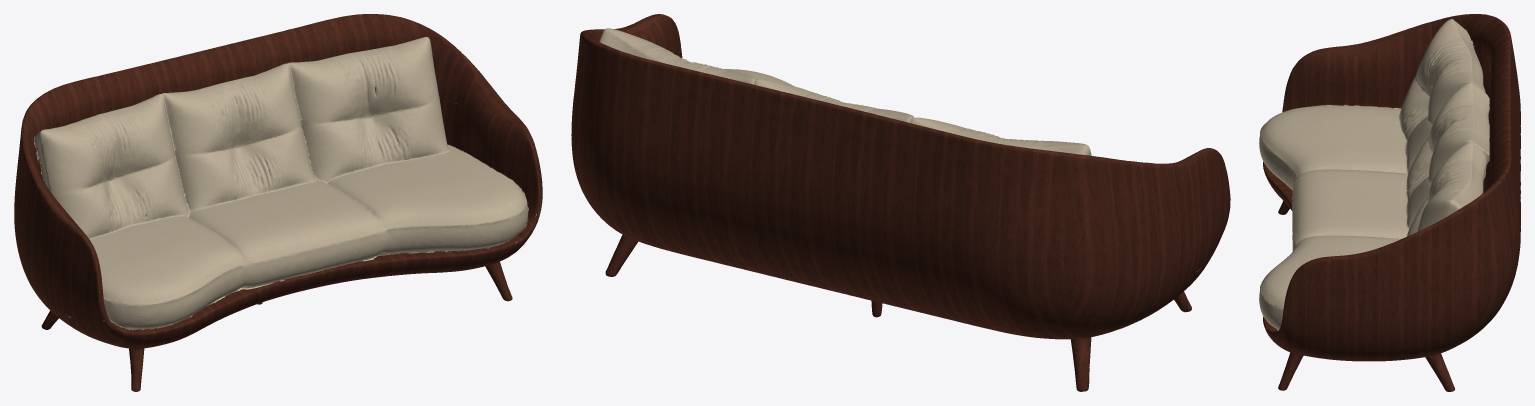
The model's file is sofa.glb.
The picture shows the model from 3 angles, left to right: view 1: azimuth 30°, elevation 25°; view 2: azimuth 150°, elevation 25°; view 3: azimuth 270°, elevation 25°; orthographic projection. The views are drawn at different scales.
Parts seen in each view (by area): view 1: world; view 2: world; view 3: world.
Boxes of the visible parts, left/top/right/bottom form: world: left=14, top=14, right=542, bottom=391; world: left=571, top=14, right=1230, bottom=391; world: left=1259, top=14, right=1520, bottom=391.
Size of the model in its own units: 1 by 0.4438 by 0.5091.
2 materials, 2 textured.
